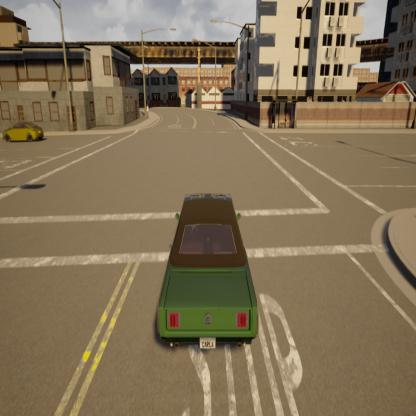Cars: (150, 179, 262, 364), (2, 114, 45, 148)
Pedestrian: (143, 101, 152, 122)
